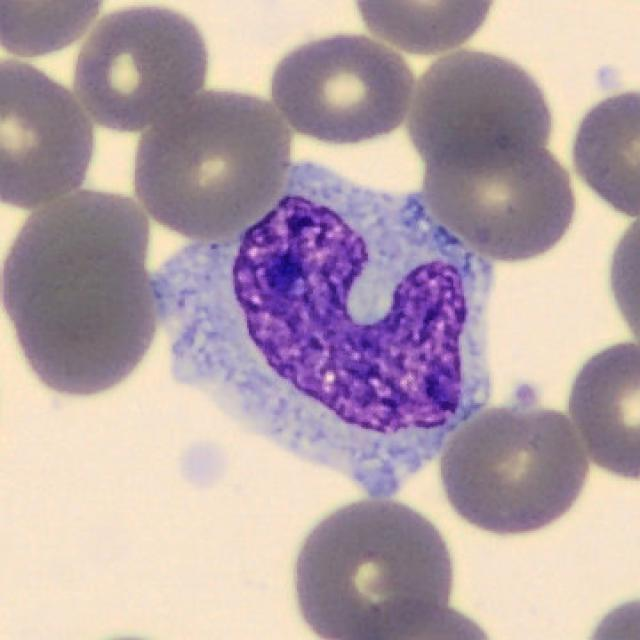Linfocito atipico: (151, 164, 492, 498)
